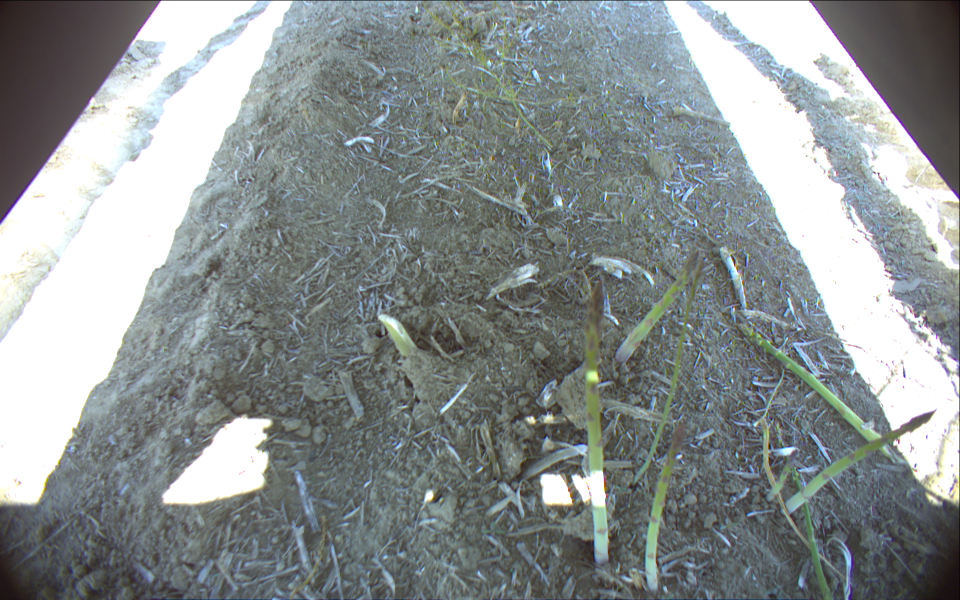aspa: (779, 408, 938, 519), (615, 250, 702, 367), (582, 273, 612, 563), (645, 423, 684, 594)
